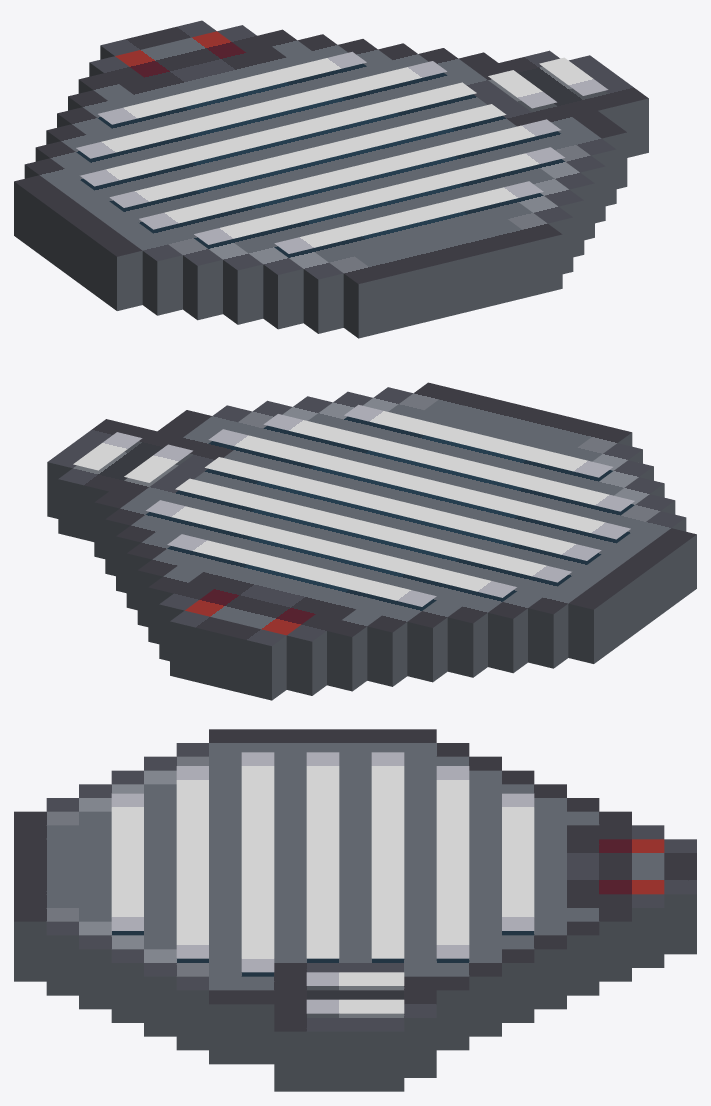
Rendered from holopad_active.glb.
The picture shows the model from 3 angles, top to bottom: view 1: azimuth 30°, elevation 25°; view 2: azimuth 150°, elevation 25°; view 3: azimuth 270°, elevation 25°; orthographic projection. The views are drawn at different scales.
Parts seen in each view (by area): view 1: holopad_active_Floor_Housing, holopad_active_Emitter_Overlay; view 2: holopad_active_Floor_Housing, holopad_active_Emitter_Overlay; view 3: holopad_active_Floor_Housing, holopad_active_Emitter_Overlay.
Part boxes in pixels (<box>): holopad_active_Floor_Housing: <box>14,20,648,338</box>; holopad_active_Emitter_Overlay: <box>76,51,608,253</box>; holopad_active_Floor_Housing: <box>47,382,696,700</box>; holopad_active_Emitter_Overlay: <box>73,404,634,606</box>; holopad_active_Floor_Housing: <box>14,729,696,1091</box>; holopad_active_Emitter_Overlay: <box>111,752,534,1013</box>.
Size of the model in its own units: 0.594 by 0.059 by 0.567.
Materials: 2 (2 with a texture image).
